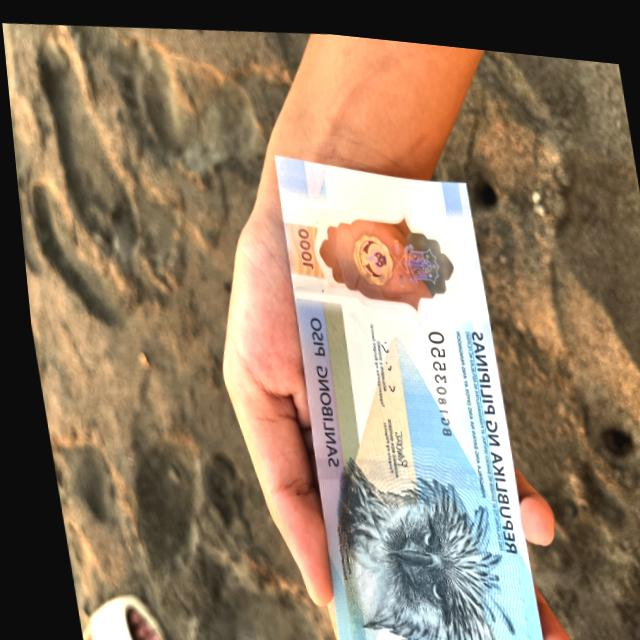clear_window: (274, 173, 479, 330)
eagle: (301, 434, 513, 640)
